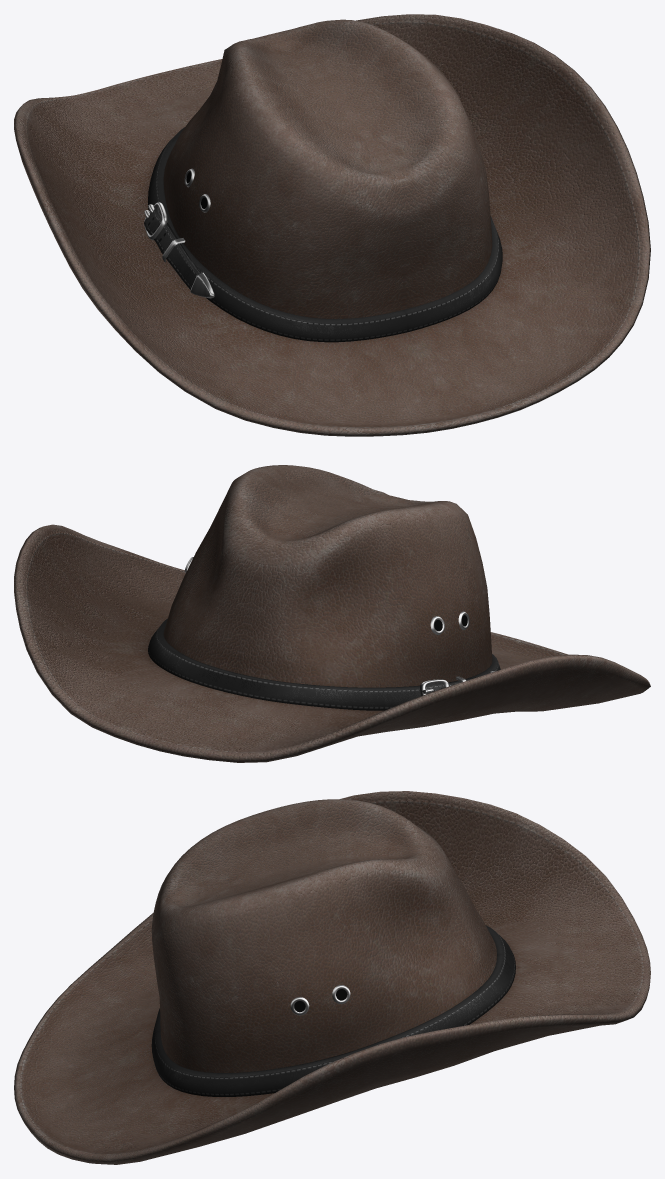
The model's file is 21-Cowboy-Hat-PBR-110883226886153.glb.
The picture shows the model from 3 angles, top to bottom: view 1: azimuth 30°, elevation 25°; view 2: azimuth 150°, elevation 25°; view 3: azimuth 270°, elevation 25°; orthographic projection.
Visible parts, largest first — view 1: 21-Cowboy-Hat-PBR-110883226886153; view 2: 21-Cowboy-Hat-PBR-110883226886153; view 3: 21-Cowboy-Hat-PBR-110883226886153.
Boxes of the visible parts, x1=… form: 21-Cowboy-Hat-PBR-110883226886153: x1=14, y1=14, x2=650, y2=436; 21-Cowboy-Hat-PBR-110883226886153: x1=14, y1=465, x2=650, y2=762; 21-Cowboy-Hat-PBR-110883226886153: x1=14, y1=791, x2=650, y2=1164.
Bounding box in the file's own units: 2.7 × 1.22 × 2.7.
Materials: 1 (1 with a texture image).
